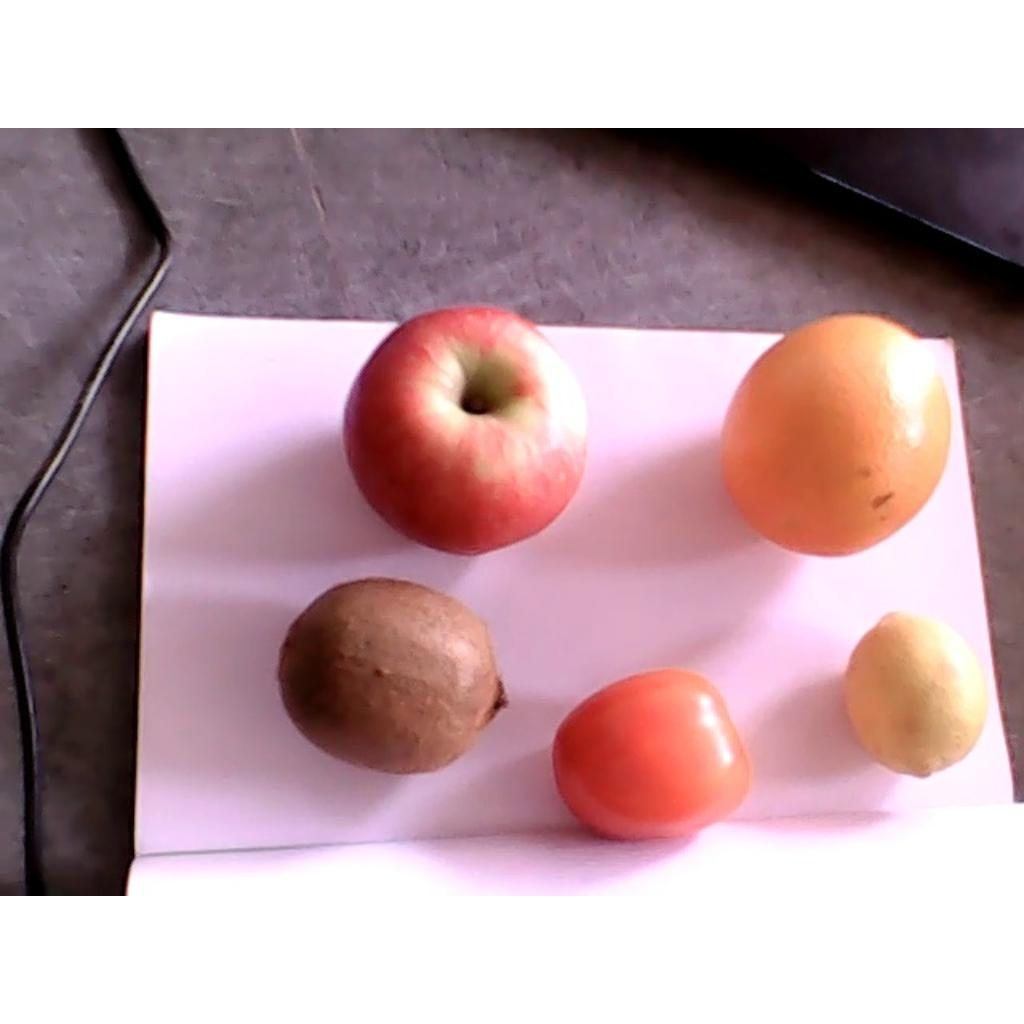apple: (342, 306, 590, 556)
kiwi: (276, 577, 510, 774)
lemon: (842, 611, 988, 779)
orange: (721, 314, 954, 558)
tomato: (551, 669, 750, 837)
